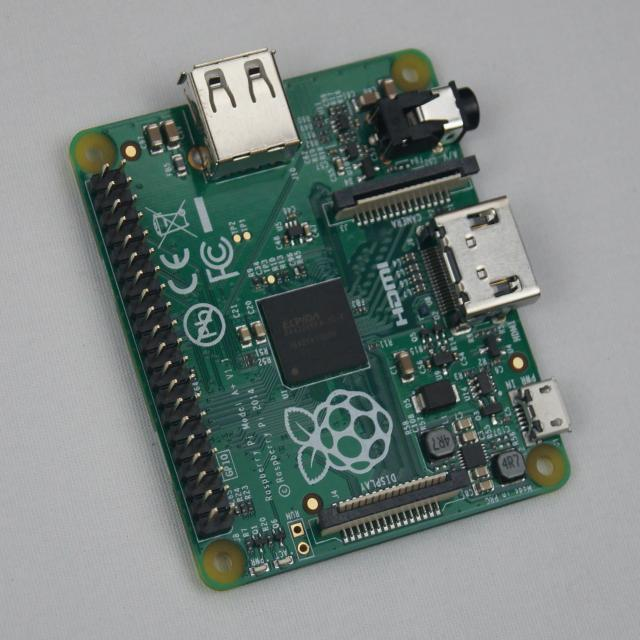Raspberry-Pi-1-A-: (71, 50, 570, 590)
